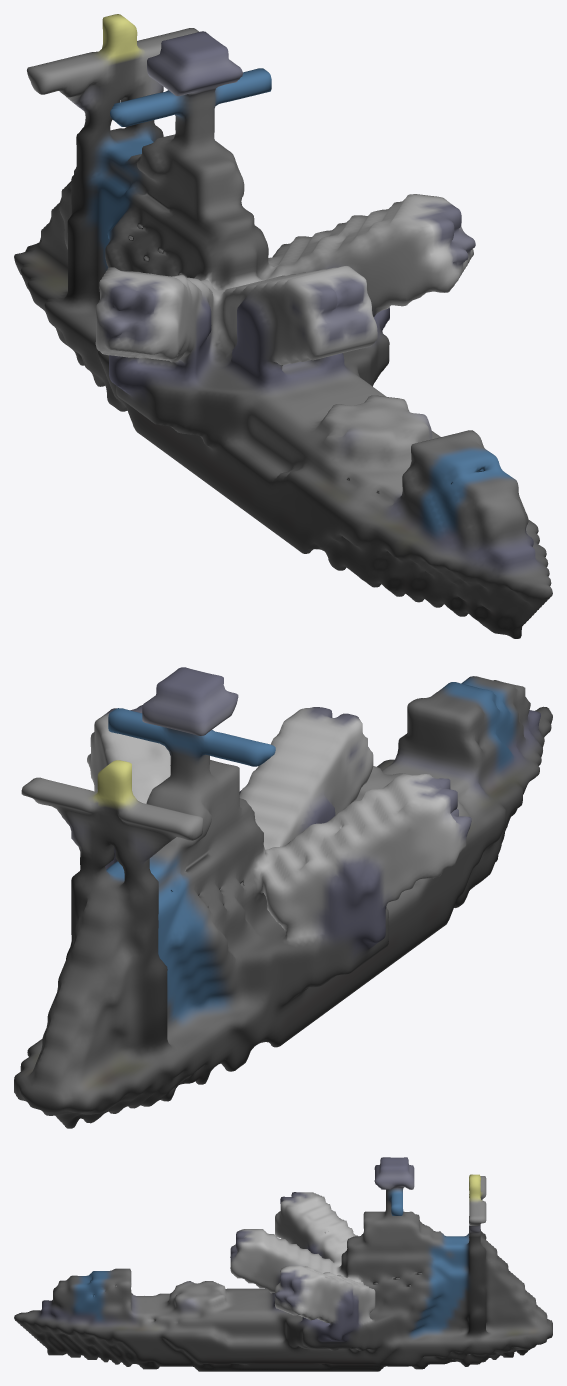
File: aegis.glb
The picture shows the model from 3 angles, top to bottom: view 1: azimuth 30°, elevation 25°; view 2: azimuth 150°, elevation 25°; view 3: azimuth 270°, elevation 25°; orthographic projection. The views are drawn at different scales.
Visible parts, largest first — view 1: aegis; view 2: aegis; view 3: aegis.
Part boxes in pixels (x1,y1,x2,y2): aegis: (14,14,552,638); aegis: (14,667,552,1128); aegis: (14,1157,552,1371).
Bounding box in the file's own units: 3.43 × 3.18 × 8.05.
